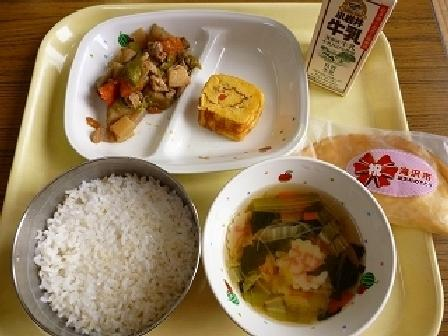Milk: (292, 3, 406, 95)
Rice: (7, 163, 196, 334)
Soups: (204, 169, 396, 332)
cooked food meat with vegetables: (82, 28, 189, 125)
desserts: (184, 64, 282, 149)
pastry: (307, 126, 447, 228)
